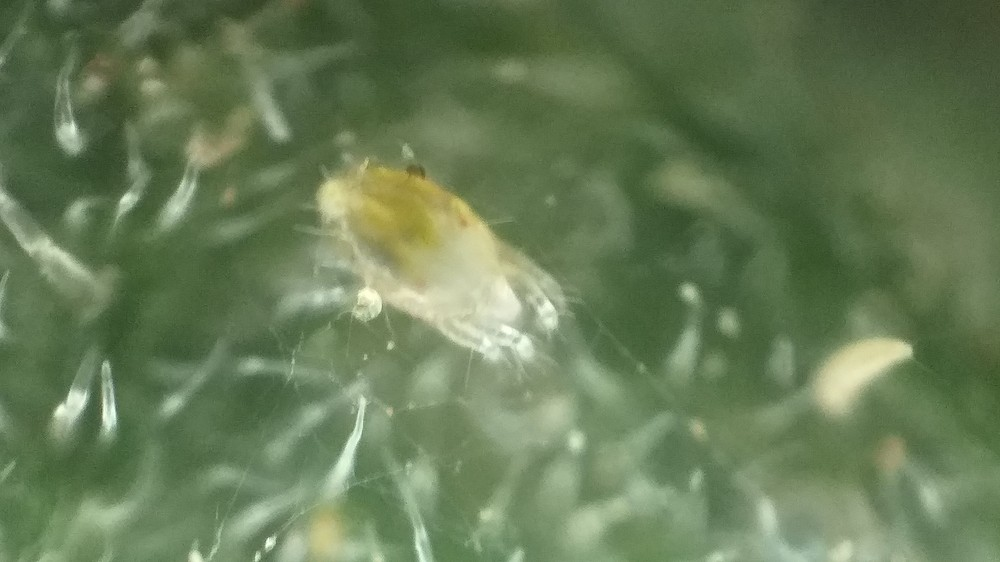Aracnido Rojo: (275, 144, 620, 398)
